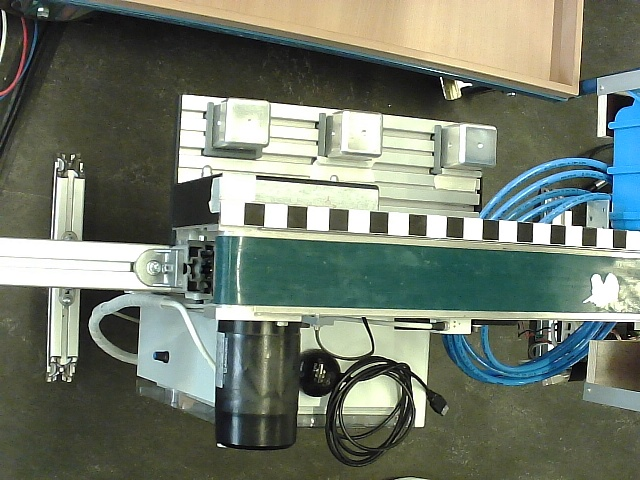unicorn: (583, 272, 620, 310)
